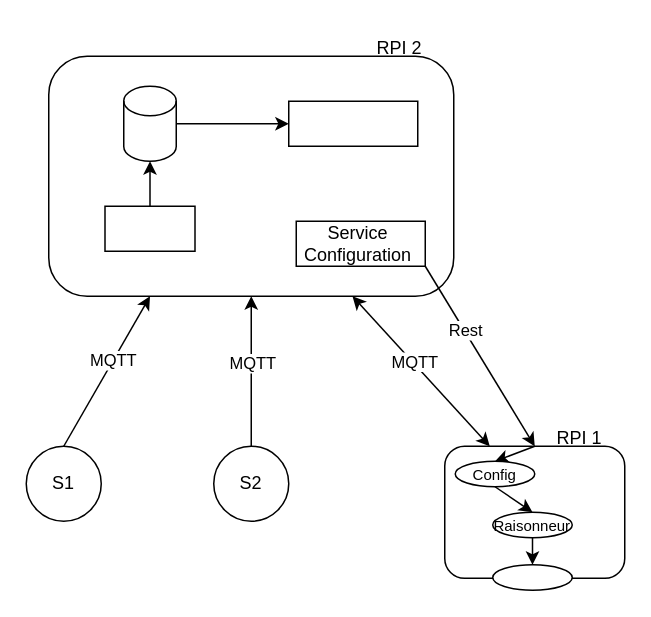
Some shapes in this 651 by 617 pixel diagram are drawn without their labels. The centre of each missing label's shape, as x and y in pixels:
Actionneur: [531,576]
Broker: [149,228]
Service Affichage: [352,123]
